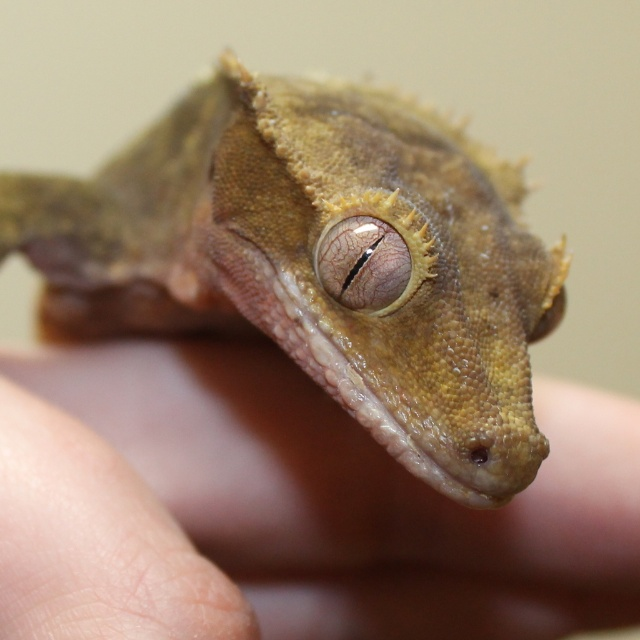Lizard: (8, 48, 588, 539)
